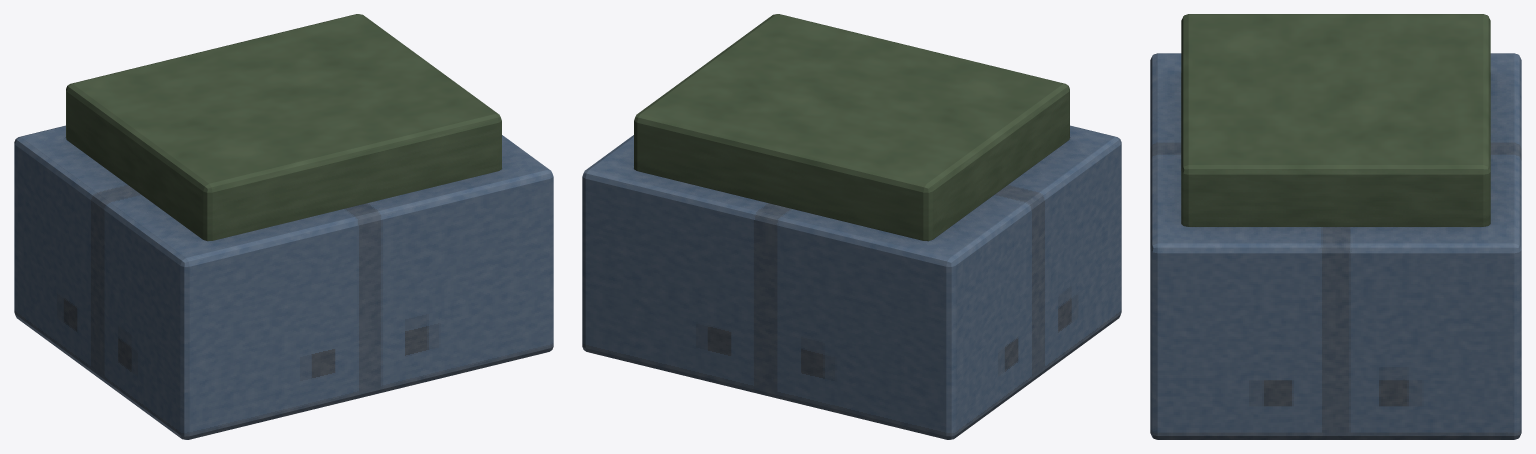
The model's file is base_cell_armor.glb.
3 renders of one model, left to right at view 1: azimuth 30°, elevation 25°; view 2: azimuth 150°, elevation 25°; view 3: azimuth 270°, elevation 25°, orthographic. The views are drawn at different scales.
Parts seen in each view (by area): view 1: base_cell_armor; view 2: base_cell_armor; view 3: base_cell_armor.
Boxes of the visible parts, x1,y1,x2,y2 form: base_cell_armor: (14,14,553,439); base_cell_armor: (582,14,1121,439); base_cell_armor: (1150,14,1521,439).
Bounding box in the file's own units: 0.75 × 0.455 × 0.6.
Materials: 2 (2 with a texture image).
